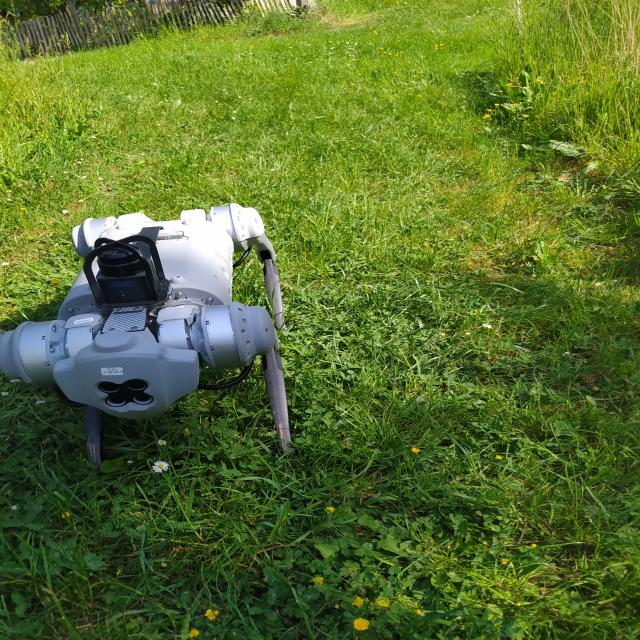unitree-go1-robot: (10, 202, 318, 482)
